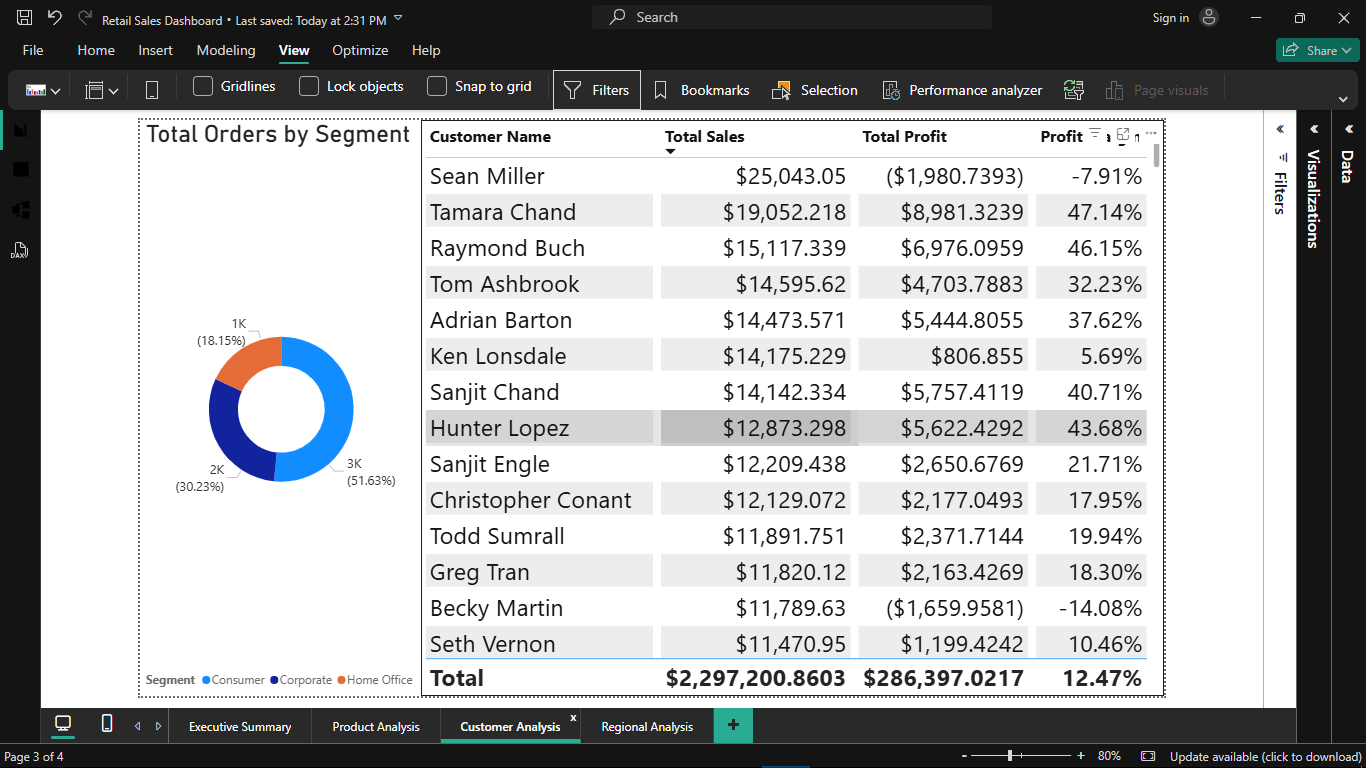

The page's visual inventory and layout, read from the dashboard file:
{"tool":"powerbi","page":{"name":"Customer Analysis","canvas":[1280,720],"ordinal":2},"visuals":[{"type":"donutChart","fields":{"Category":["Sample - Superstore.Segment"],"Y":["_Measures.Total Orders"]},"box":[2.8,0,348.2,719.8],"z":0},{"type":"tableEx","fields":{"Values":["Sample - Superstore.Customer Name","_Measures.Total Sales","_Measures.Total Profit","_Measures.Profit Margin"]},"box":[351,0,929,719.8],"z":1000}]}

Visuals, with their boxes on the page's 1280x720 design canvas (x1, y1, x2, y2). These are canvas units, not pixel positions in the 1366x768 screenshot, which may show the page scaled, cropped or inside an application window:
donutChart - Sample - Superstore.Segment x _Measures.Total Orders: 3/0/351/720
tableEx - Sample - Superstore.Customer Name x _Measures.Total Sales: 351/0/1280/720
